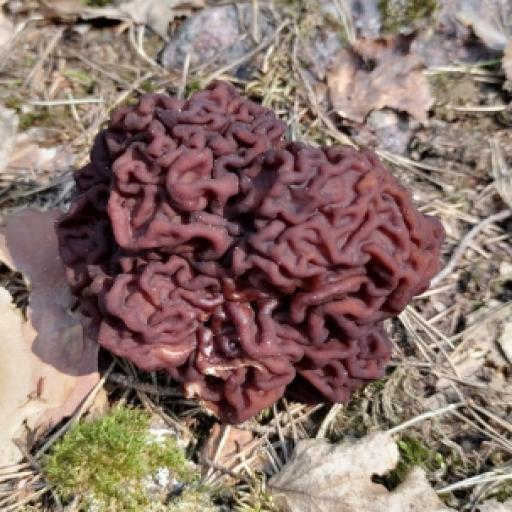False Morel: (42, 51, 444, 448)
